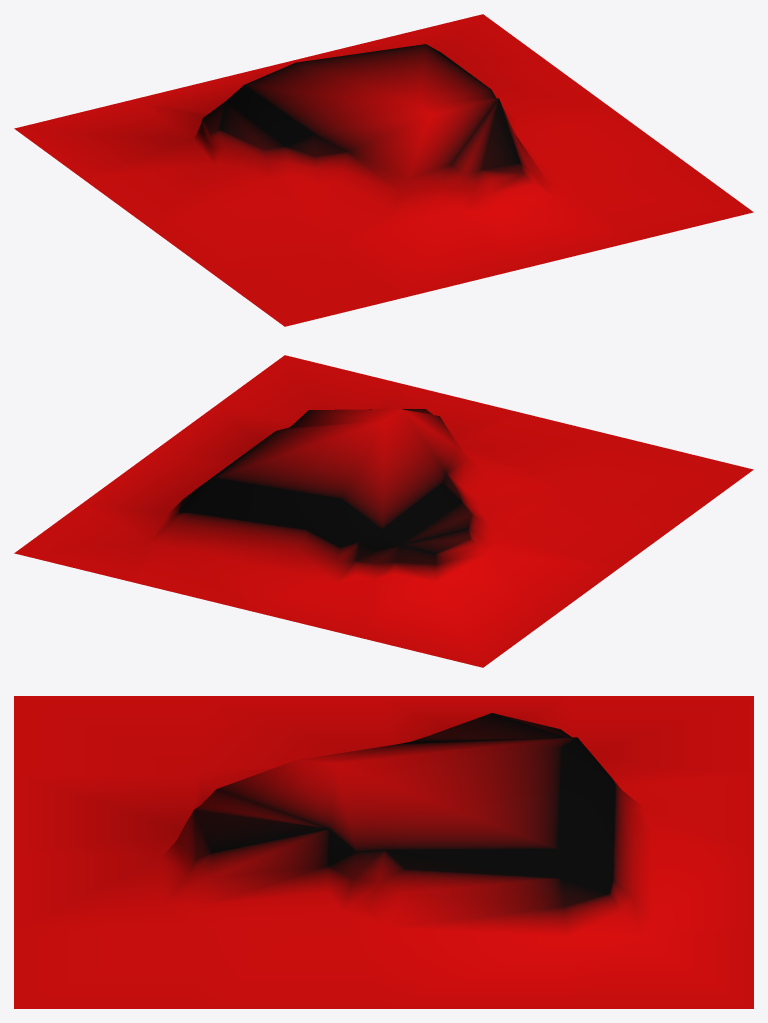
Rendered from GroundBottom01J 1M Background.fbx.
3 renders of one model, top to bottom at view 1: azimuth 30°, elevation 25°; view 2: azimuth 150°, elevation 25°; view 3: azimuth 270°, elevation 25°, orthographic. The views are drawn at different scales.
Visible parts, largest first — view 1: GroundBottom01J 1M Background; view 2: GroundBottom01J 1M Background; view 3: GroundBottom01J 1M Background.
Boxes of the visible parts, x1,y1,x2,y2 form: GroundBottom01J 1M Background: (14, 14, 753, 326); GroundBottom01J 1M Background: (14, 355, 753, 667); GroundBottom01J 1M Background: (14, 696, 753, 1008).
Bounding box in the file's own units: 4 × 0.6109 × 4.
